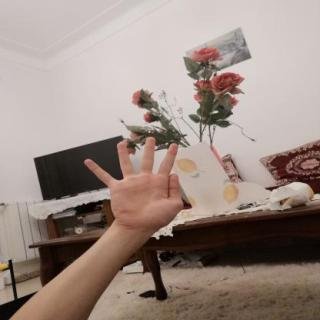SHEEN: (76, 131, 196, 237)
